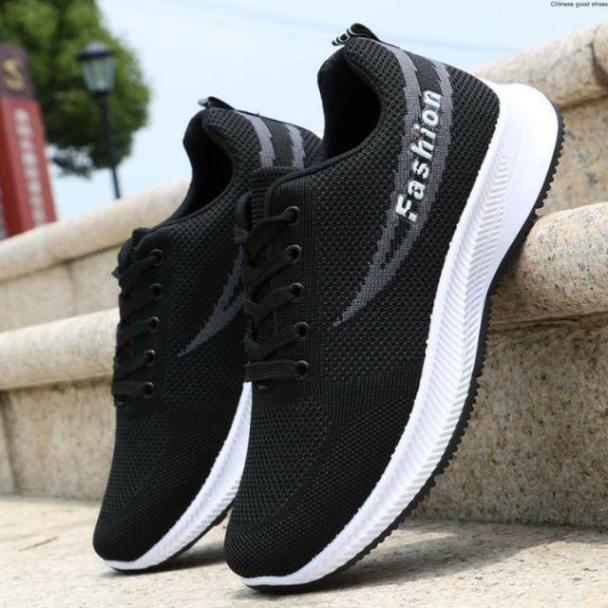Sepatu: (221, 39, 563, 586), (88, 94, 262, 566)
